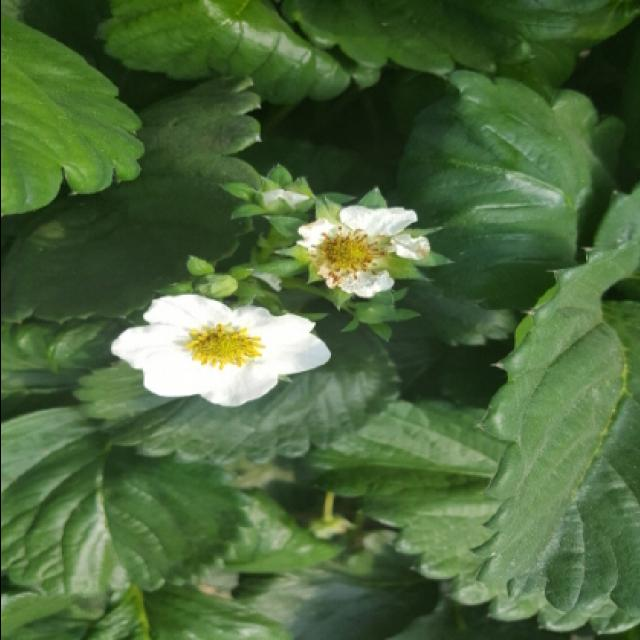Blossom Blight: (308, 221, 388, 290)
